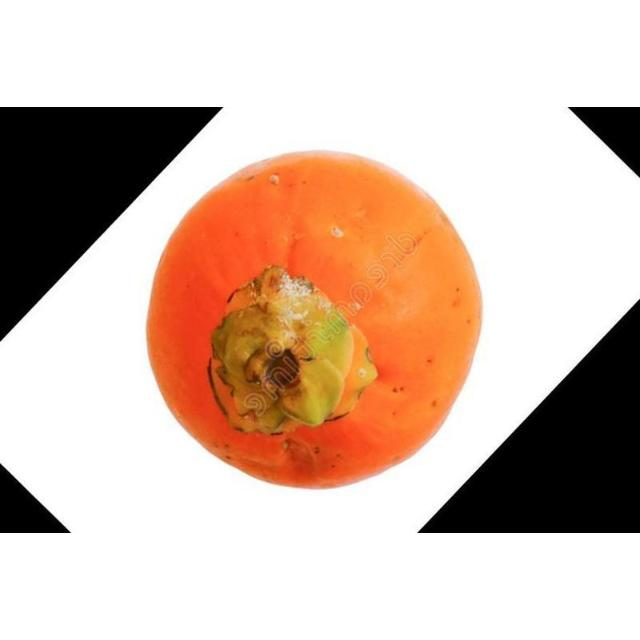good: (143, 150, 486, 493)
